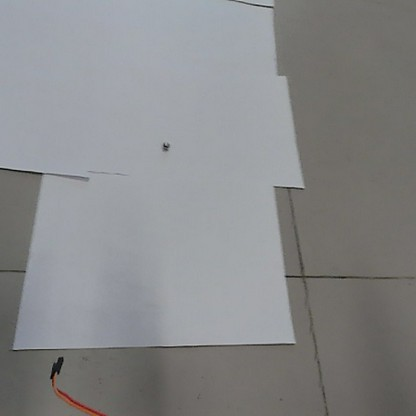ironball: (161, 137, 170, 154)
